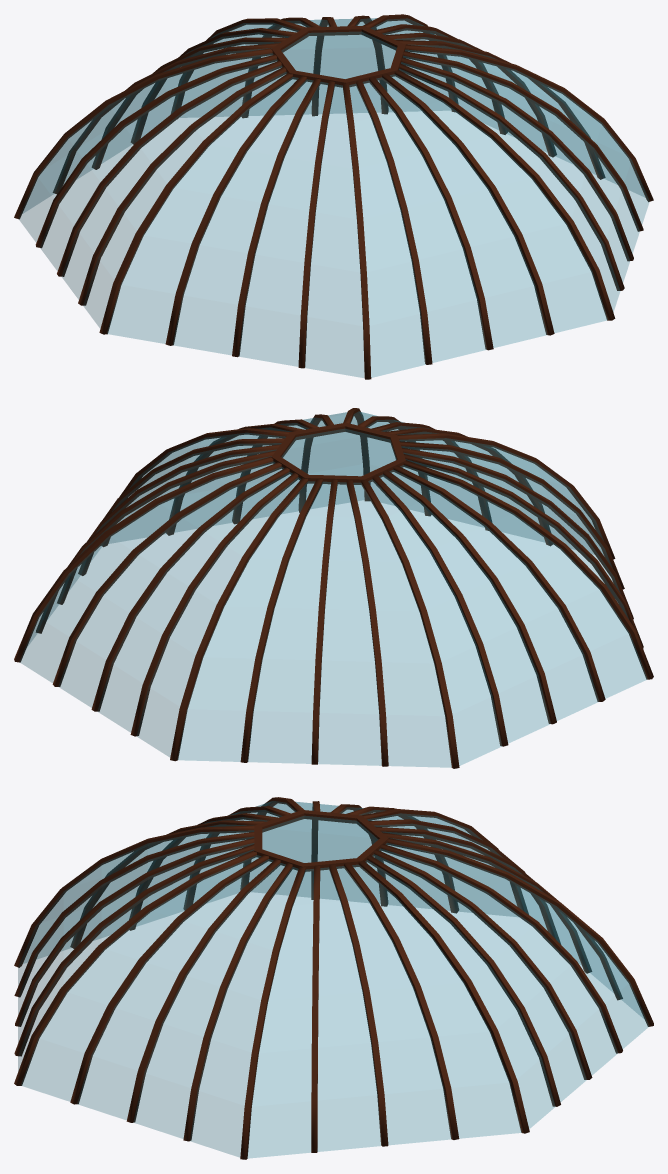
File: Kopuła.fbx
The picture shows the model from 3 angles, top to bottom: view 1: azimuth 30°, elevation 25°; view 2: azimuth 150°, elevation 25°; view 3: azimuth 270°, elevation 25°; orthographic projection.
Visible parts, largest first — view 1: SzkloKopula, Sphere.002, Sphere.001; view 2: SzkloKopula, Sphere.002, Sphere.001; view 3: SzkloKopula, Sphere.002, Sphere.001.
Part boxes in pixels (bbox=[...]): SzkloKopula: bbox=[18, 18, 649, 377]; Sphere.002: bbox=[14, 14, 653, 379]; Sphere.001: bbox=[271, 26, 405, 87]; SzkloKopula: bbox=[19, 411, 647, 767]; Sphere.002: bbox=[14, 408, 653, 768]; Sphere.001: bbox=[271, 422, 405, 484]; SzkloKopula: bbox=[18, 801, 648, 1158]; Sphere.002: bbox=[14, 797, 653, 1159]; Sphere.001: bbox=[254, 810, 388, 871].
Size of the model in its own units: 8.09 by 2.62 by 8.09.
